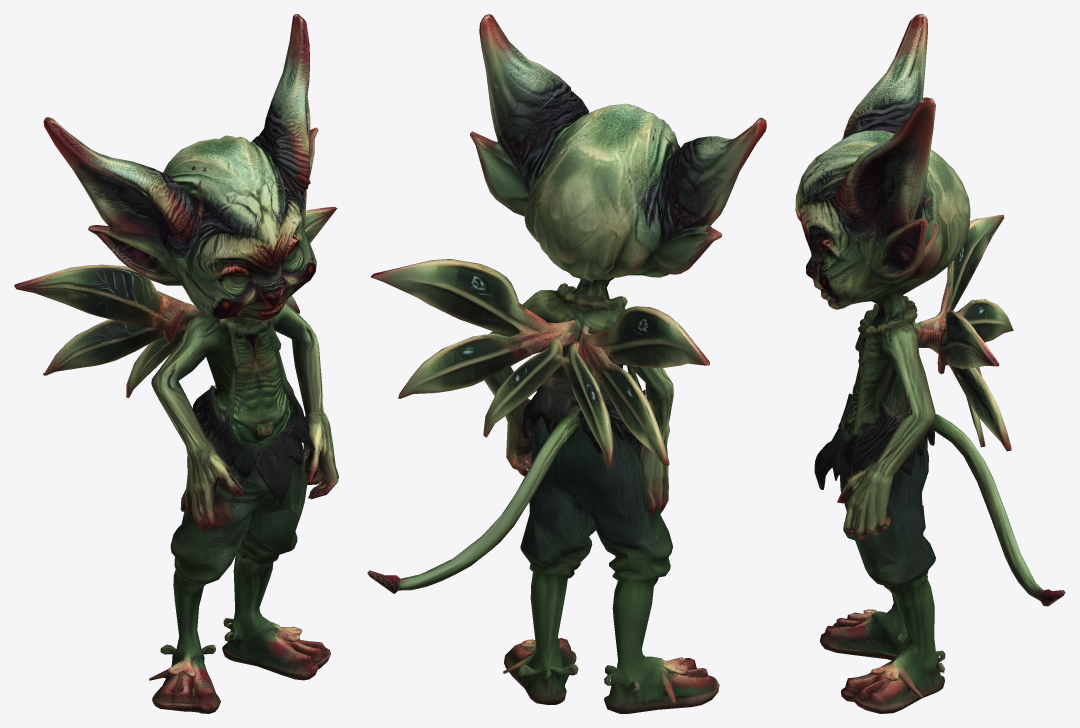
The model's file is Meshy_AI_forest_imps_that_look_0504063101_texture.fbx.
3 renders of one model, left to right at view 1: azimuth 30°, elevation 25°; view 2: azimuth 150°, elevation 25°; view 3: azimuth 270°, elevation 25°, orthographic. The views are drawn at different scales.
Visible parts, largest first — view 1: Mesh_0; view 2: Mesh_0; view 3: Mesh_0.
Part boxes in pixels (x1,y1,x2,y2): Mesh_0: (14,14,338,713); Mesh_0: (367,14,766,713); Mesh_0: (795,14,1065,713).
Bounding box in the file's own units: 105 × 191 × 75.7.
Materials: 1 (1 with a texture image).
